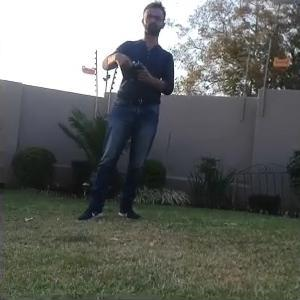follow: (73, 0, 177, 224)
